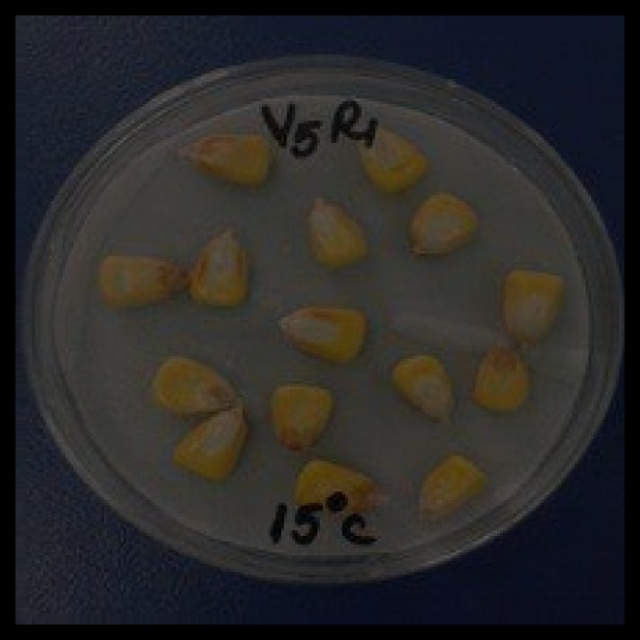Zea mays: (169, 404, 253, 491), (143, 352, 243, 418), (170, 131, 275, 193), (346, 124, 432, 197), (272, 305, 370, 369), (496, 269, 569, 354), (286, 459, 396, 513), (263, 380, 339, 458), (384, 354, 459, 433), (93, 251, 185, 315), (410, 453, 488, 527), (186, 229, 254, 313), (302, 195, 372, 275), (402, 193, 482, 262), (465, 344, 534, 421)
